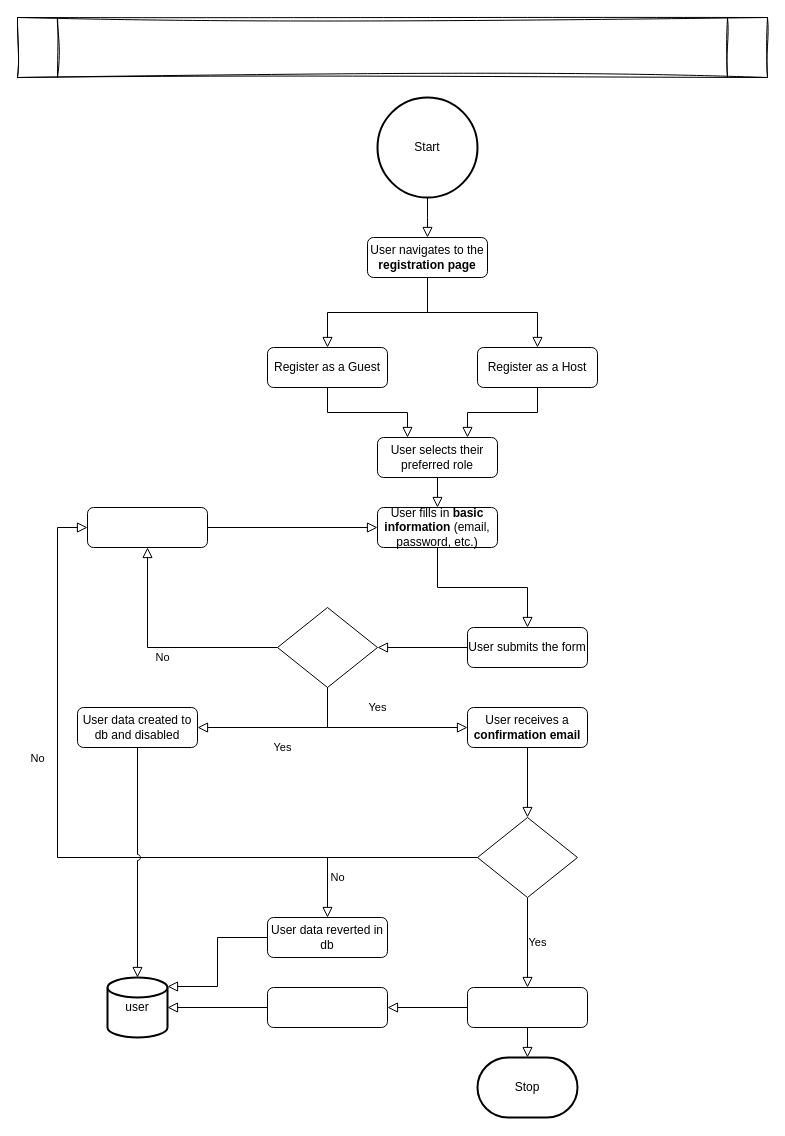
Image size: 785x1136. Some labels were removed from this diagram. Each missing label, with the centre of its shape:
"AirBnb Flow Chart: User Management Registration Process" belongs at [392,47].
"an error message is displayed" belongs at [147,527].
"is email verified?" belongs at [527,857].
"Is form validation ok?" belongs at [327,647].
"User account activated" belongs at [527,1007].
"User data committed to db and enabled" belongs at [327,1007].
